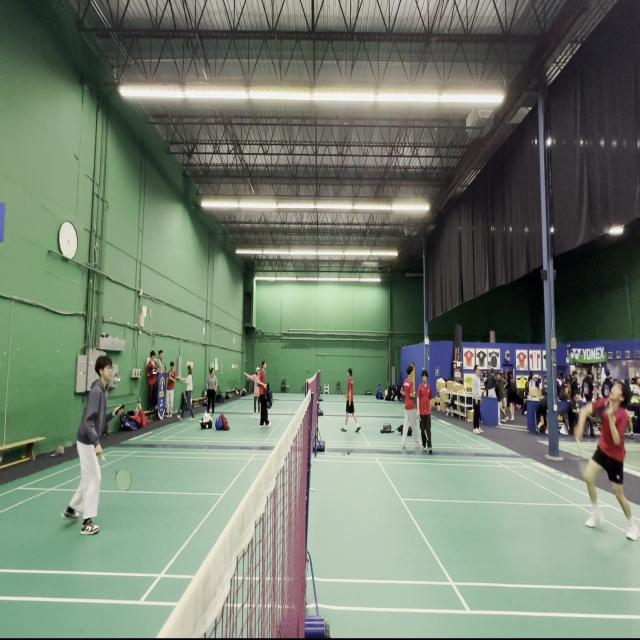shuttlecock: (361, 260, 378, 268)
